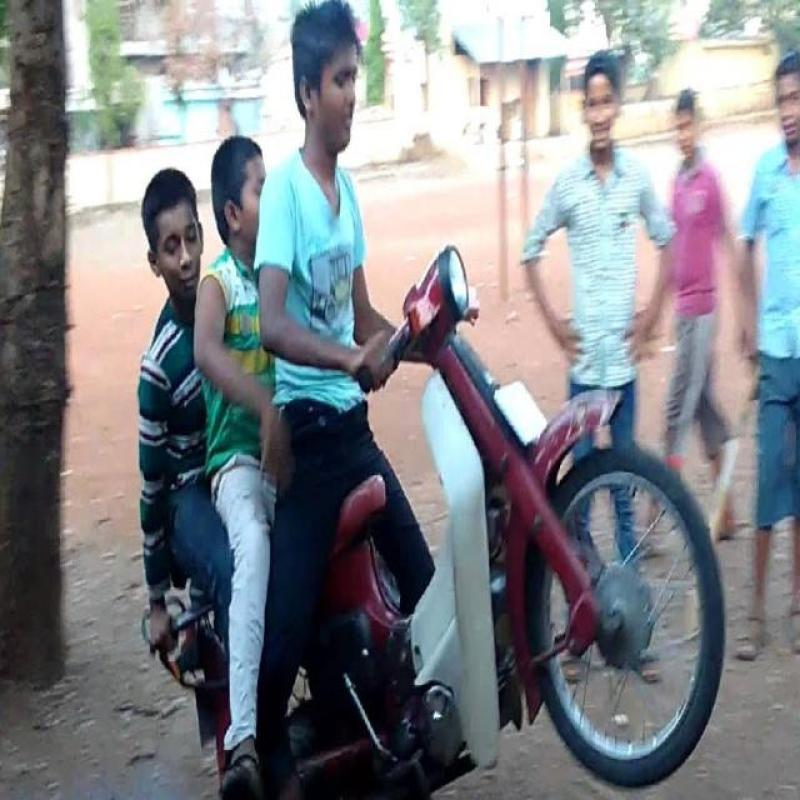nohelmet: (274, 0, 380, 155)
